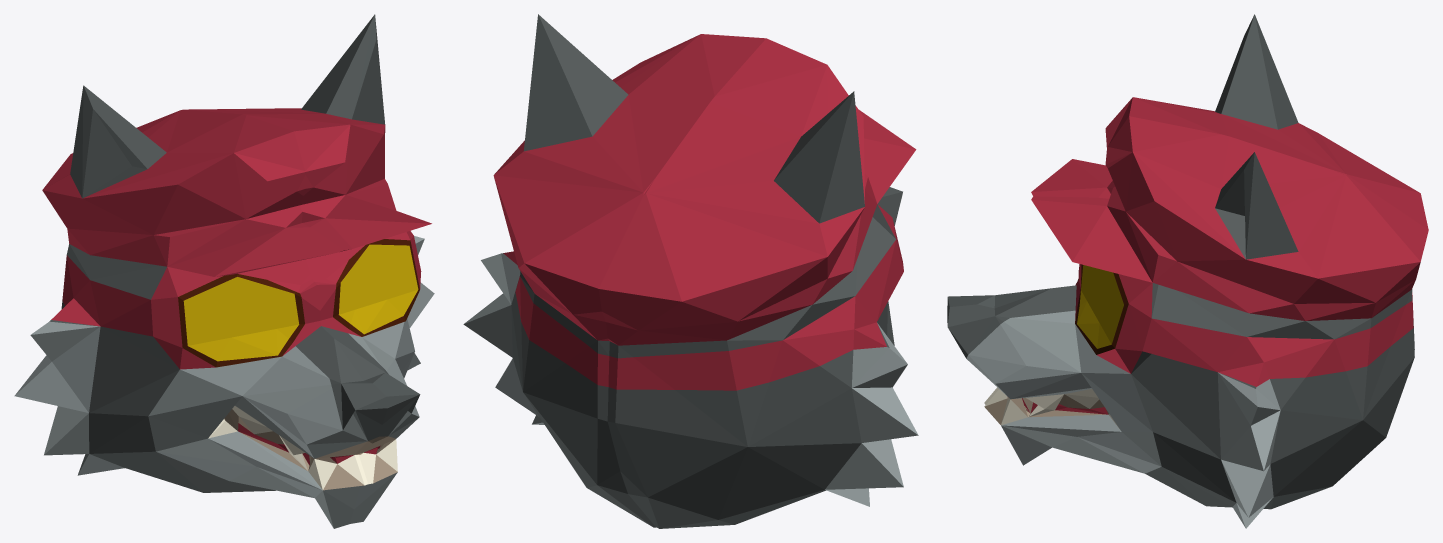
The model's file is loboHeadEnemy.fbx.
3 renders of one model, left to right at view 1: azimuth 30°, elevation 25°; view 2: azimuth 150°, elevation 25°; view 3: azimuth 270°, elevation 25°, orthographic. The views are drawn at different scales.
Visible parts, largest first — view 1: material_derecha; view 2: material_derecha; view 3: material_derecha.
Part boxes in pixels (x1,y1,x2,y2): material_derecha: [14, 14, 434, 528]; material_derecha: [463, 14, 918, 528]; material_derecha: [947, 14, 1428, 528].
Bounding box in the file's own units: 99.6 × 96.25 × 102.
